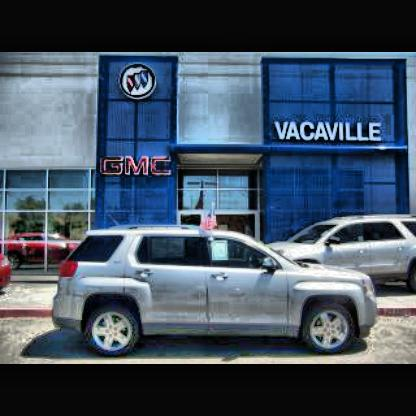GMC Terrain SUV 2012: (51, 229, 377, 356)
